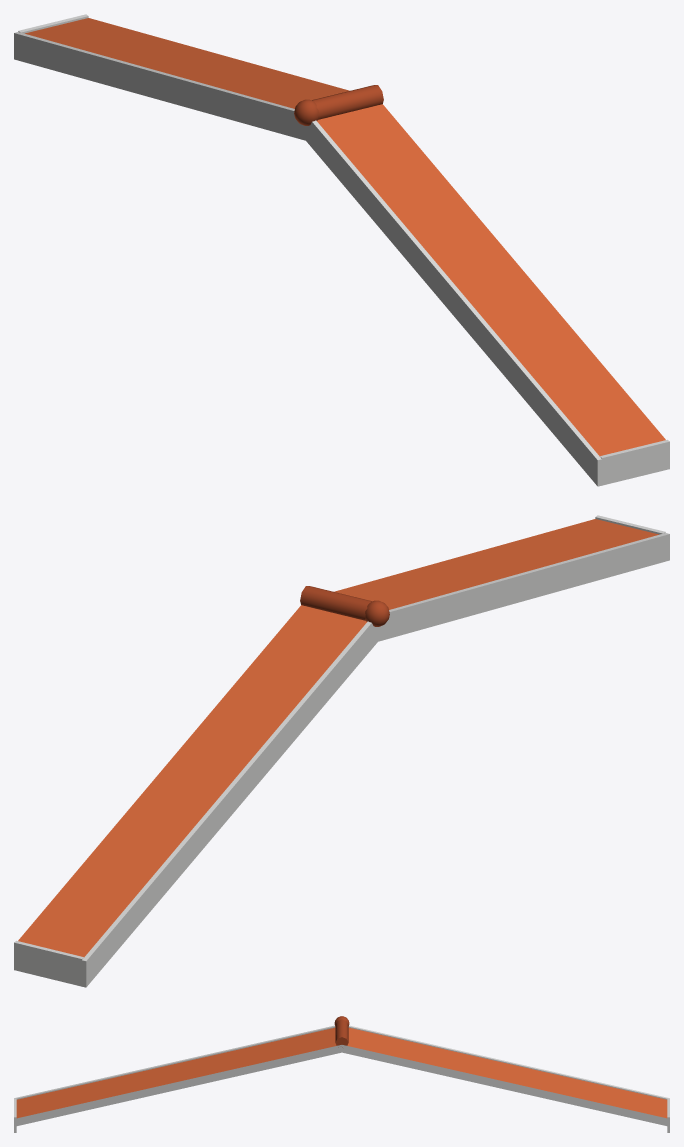
The model's file is telhado_empena_v6_i25.glb.
The picture shows the model from 3 angles, top to bottom: view 1: azimuth 30°, elevation 25°; view 2: azimuth 150°, elevation 25°; view 3: azimuth 270°, elevation 25°; orthographic projection. The views are drawn at different scales.
Parts seen in each view (by area): view 1: telhado_empena_v6_i25; view 2: telhado_empena_v6_i25; view 3: telhado_empena_v6_i25.
Part boxes in pixels (box(x1,y1,x2,y2)): telhado_empena_v6_i25: box(14, 14, 669, 486); telhado_empena_v6_i25: box(14, 515, 669, 987); telhado_empena_v6_i25: box(14, 1016, 669, 1132).
Bounding box in the file's own units: 0.57 × 1.14 × 7.
